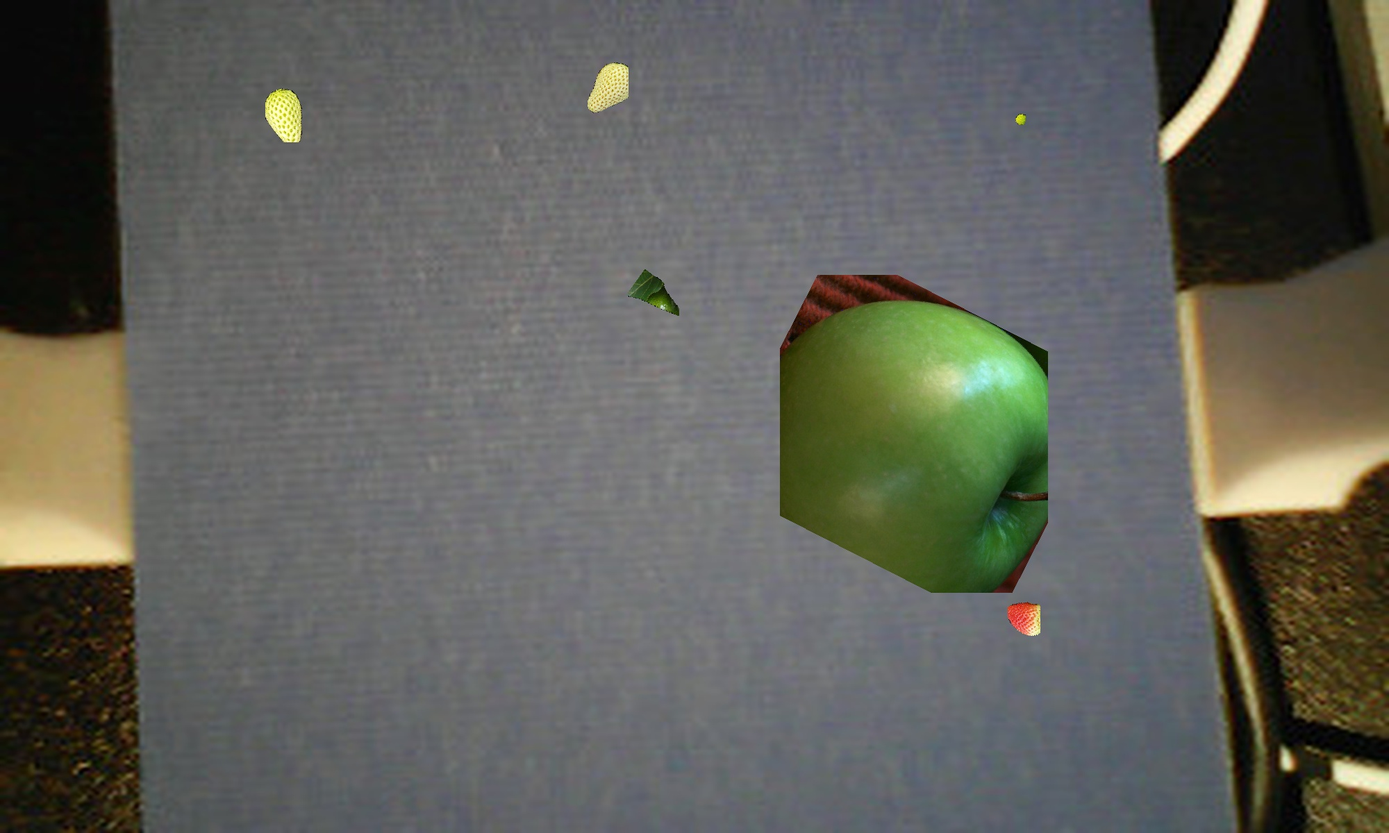not strawberry: (774, 263, 1072, 595)
strawberry: (253, 84, 308, 151), (593, 55, 633, 118), (1004, 605, 1056, 646)
